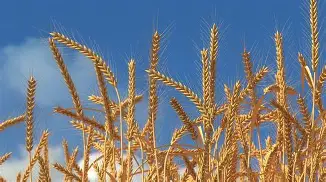crops: (0, 3, 320, 180)
